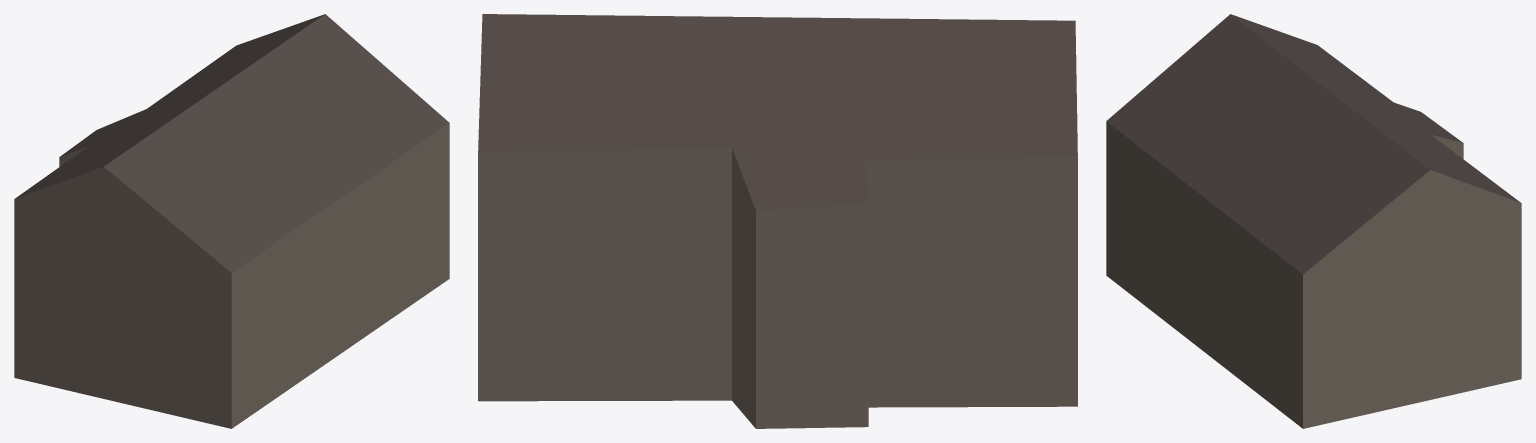
3 views of the same model, side by side, from view 1: azimuth 30°, elevation 25°; view 2: azimuth 150°, elevation 25°; view 3: azimuth 270°, elevation 25° (orthographic). The views are drawn at different scales.
Parts seen in each view (by area): view 1: HP-w1516161948; view 2: HP-w1516161948; view 3: HP-w1516161948.
Part boxes in pixels (box(x1,y1,x2,y2)): HP-w1516161948: box(14, 14, 449, 428); HP-w1516161948: box(478, 14, 1077, 428); HP-w1516161948: box(1106, 14, 1521, 428).
Bounding box in the file's own units: 25.87 × 13.41 × 21.95.
